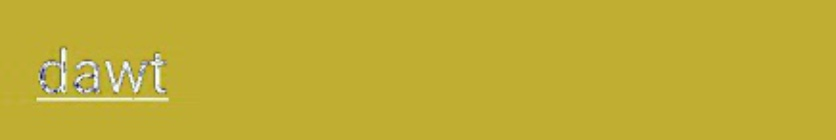EditText: (1, 1, 835, 139)
